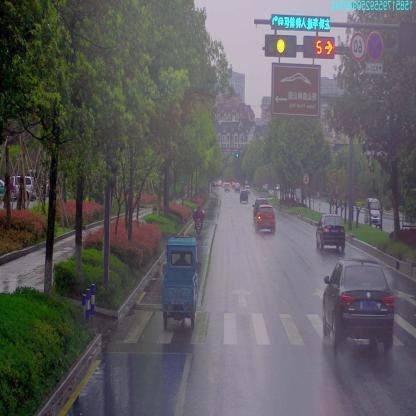traffic-light: (268, 14, 331, 30), (264, 37, 295, 57), (304, 36, 334, 56)
